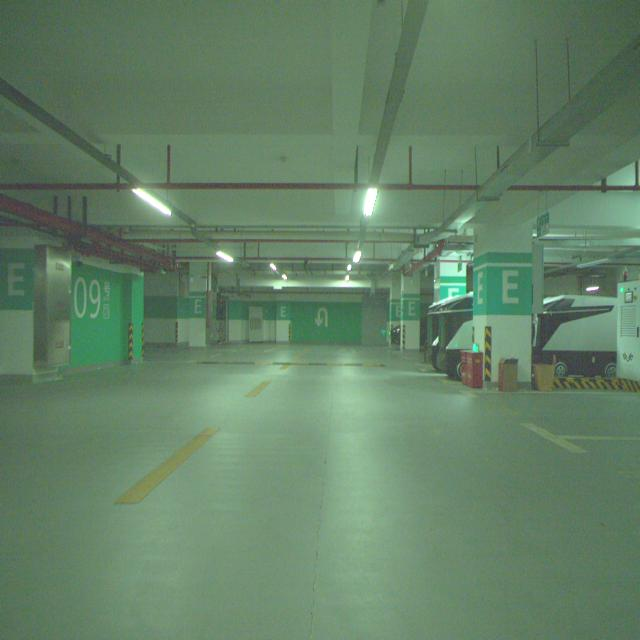pillar: (472, 225, 532, 388), (434, 261, 466, 301)
